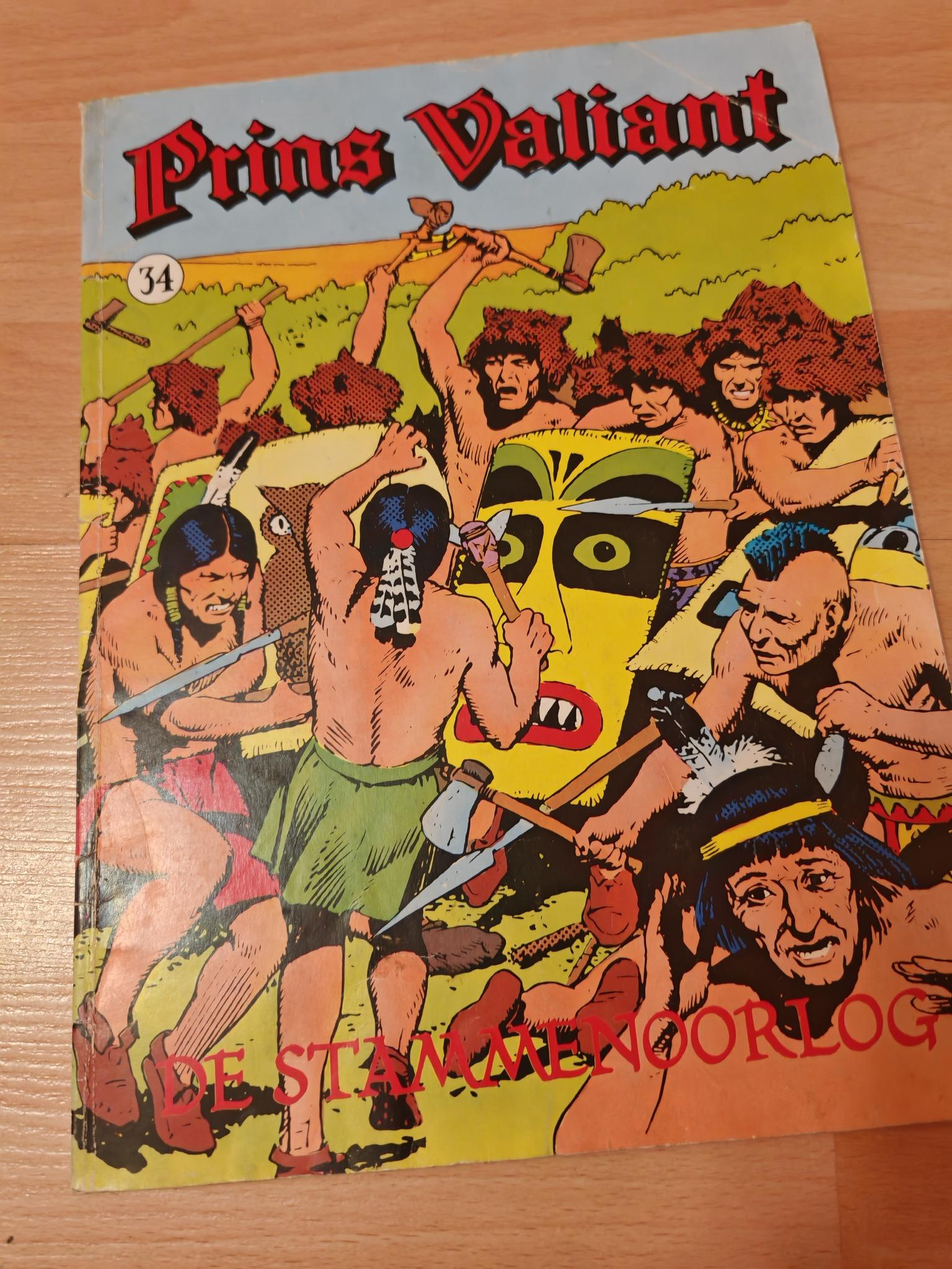comic: (0, 17, 952, 1204)
